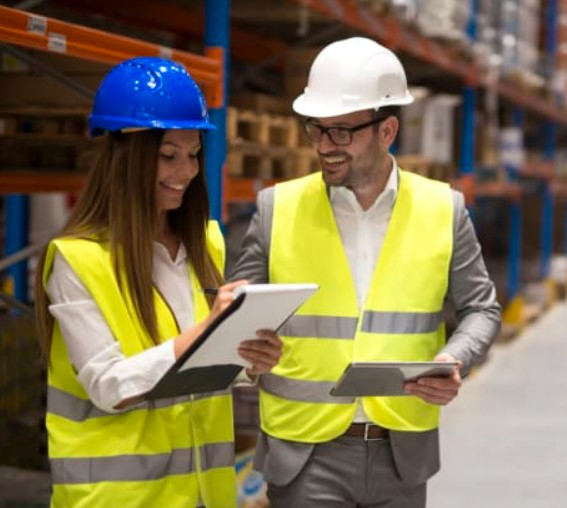worker: (42, 57, 237, 508), (260, 37, 454, 443)
